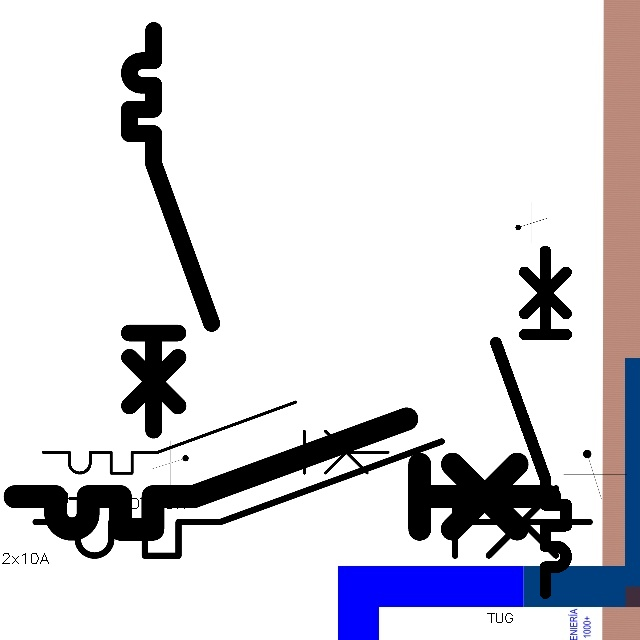interruptor_termomagnetico: (21, 427, 604, 570), (1, 405, 563, 543), (119, 20, 222, 440), (34, 393, 397, 482), (487, 242, 575, 601)
